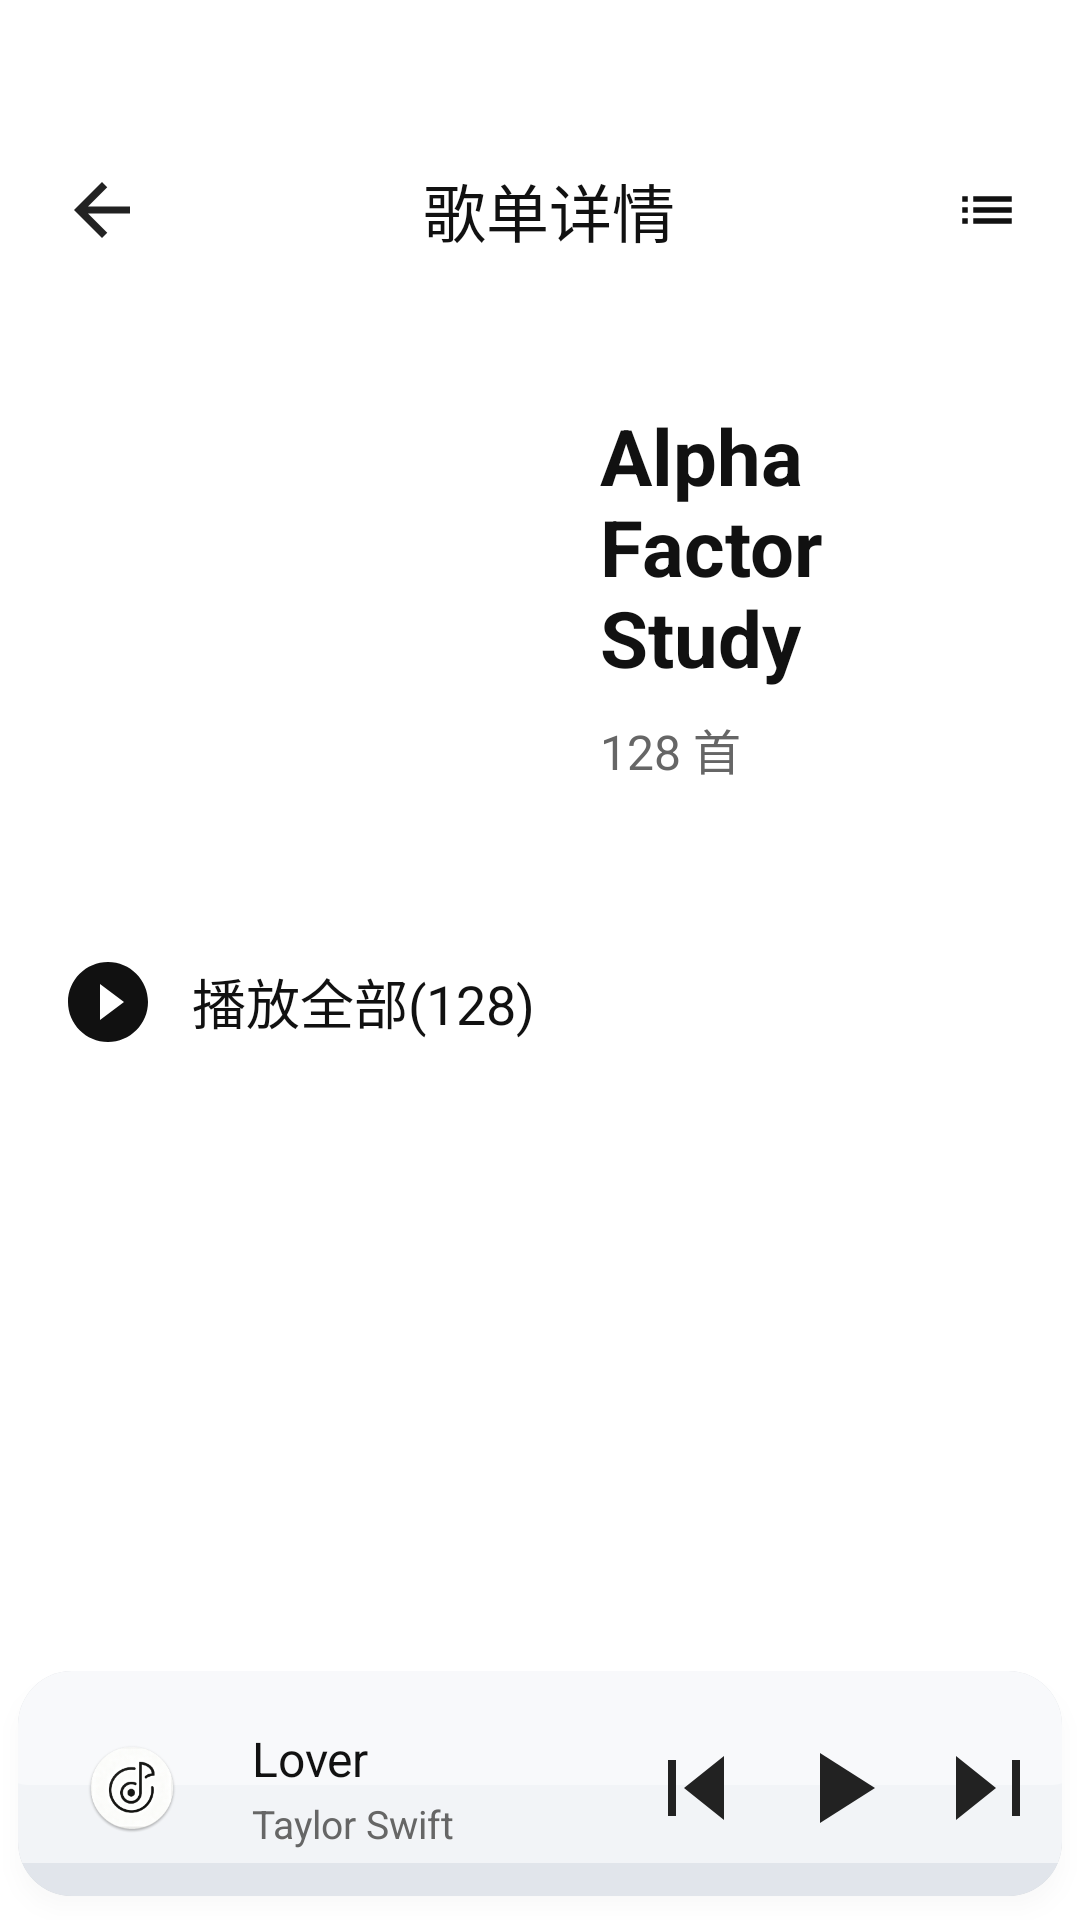

Locate icon controls on the screen. Image size 1080×1920, boxes as {"left": x1, "top": y1, "right": x2, "bottom": y2}.
batch list: {"left": 962, "top": 196, "right": 1012, "bottom": 224}
next: {"left": 956, "top": 1756, "right": 1020, "bottom": 1820}
play circle: {"left": 68, "top": 962, "right": 148, "bottom": 1042}
play triangle: {"left": 820, "top": 1753, "right": 875, "bottom": 1823}
prev: {"left": 668, "top": 1756, "right": 724, "bottom": 1820}
返回上一页: {"left": 74, "top": 182, "right": 130, "bottom": 238}
